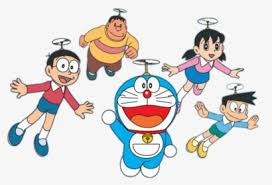doraemon: (102, 75, 179, 180)
